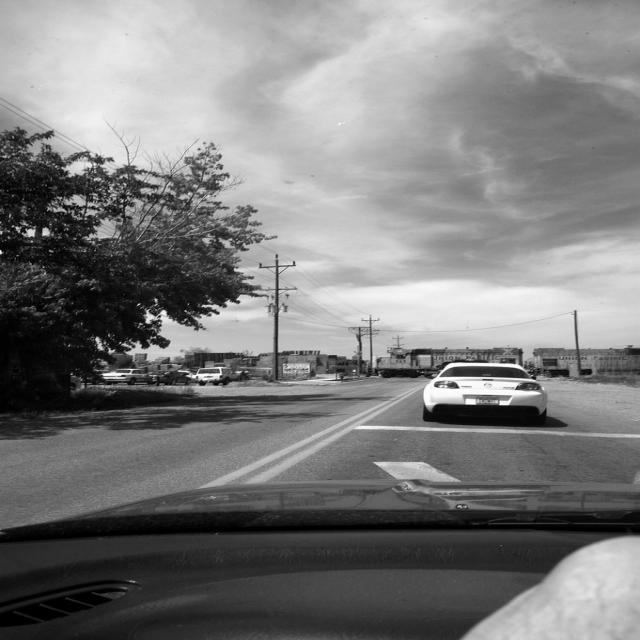car: (423, 363, 552, 426)
